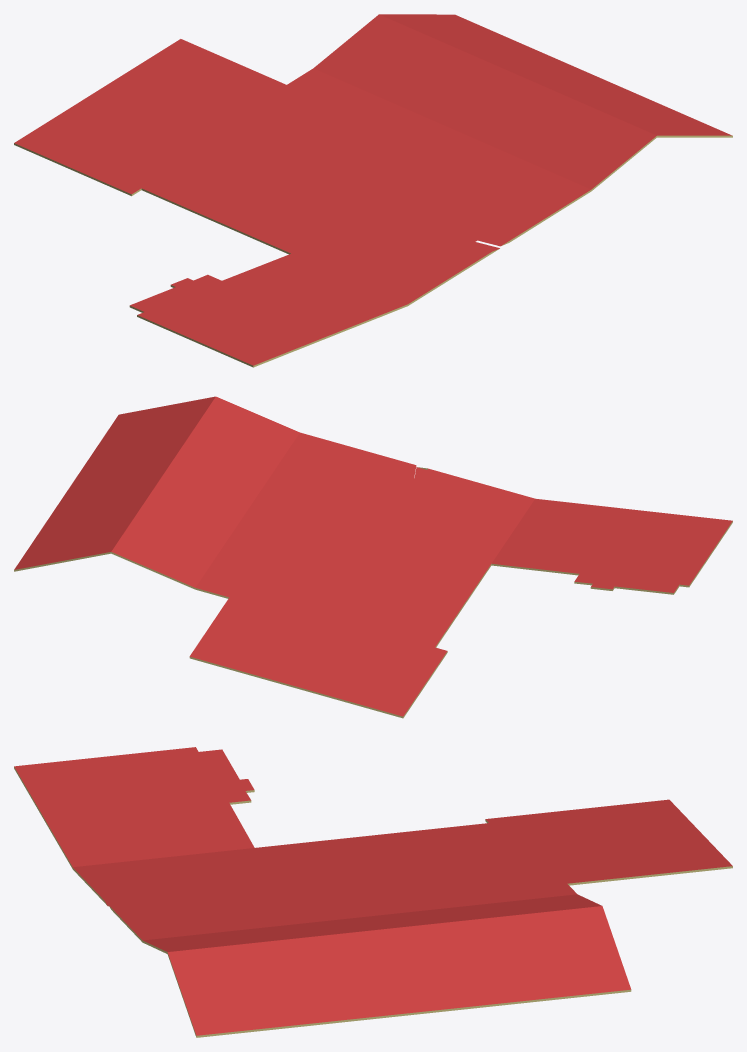
The picture shows the model from 3 angles, top to bottom: view 1: azimuth 30°, elevation 25°; view 2: azimuth 150°, elevation 25°; view 3: azimuth 270°, elevation 25°; orthographic projection. The views are drawn at different scales.
Size of the model in its own units: 33.12 by 30.83 by 3.75.
